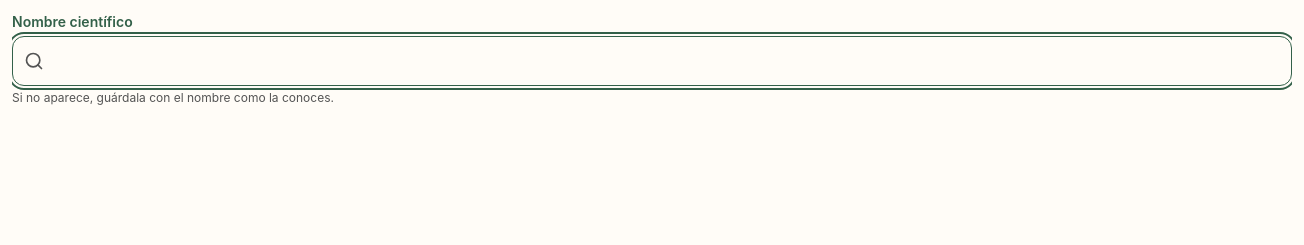
Test: Autocomplete › se cierra al perder el foco
Type "phal" into the dropdown labelled "Nombre científico" at [652, 61], box left=12, top=36, right=1292, bottom=86
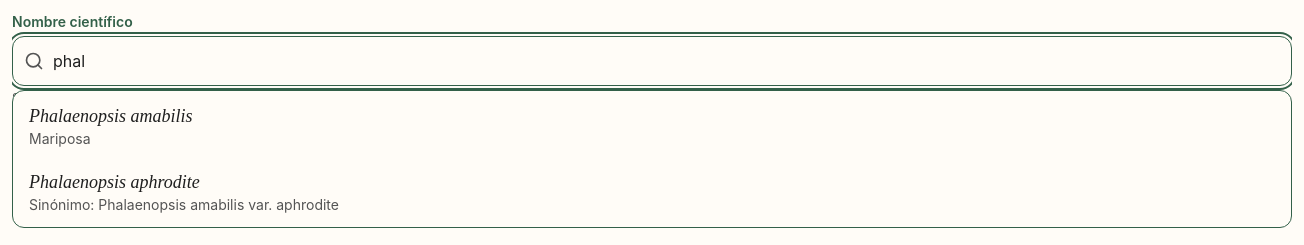
Leave the dropdown labelled "Nombre científico", box left=12, top=36, right=1292, bottom=86
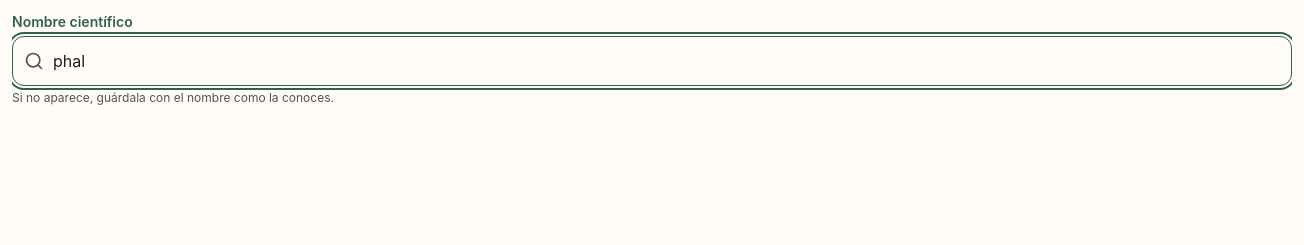
Expected: the list is gone
